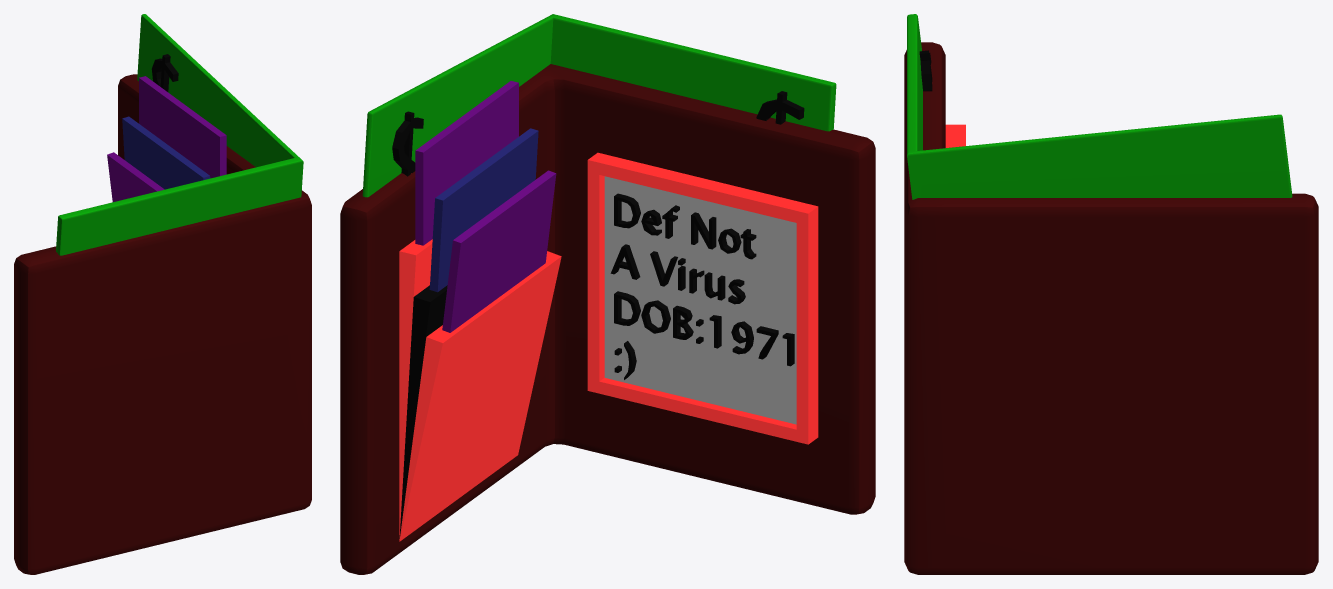
Rendered from Ransomeware.fbx.
3 views of the same model, side by side, from view 1: azimuth 30°, elevation 25°; view 2: azimuth 150°, elevation 25°; view 3: azimuth 270°, elevation 25° (orthographic). The views are drawn at different scales.
Parts seen in each view (by area): view 1: Ransomeware; view 2: Ransomeware; view 3: Ransomeware.
Boxes of the visible parts, x1,y1,x2,y2 form: Ransomeware: [14, 14, 311, 574]; Ransomeware: [340, 14, 875, 574]; Ransomeware: [904, 14, 1318, 574].
Size of the model in its own units: 3.52 by 4.46 by 3.67.
